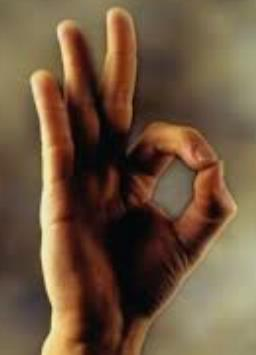left: (27, 5, 238, 343)
